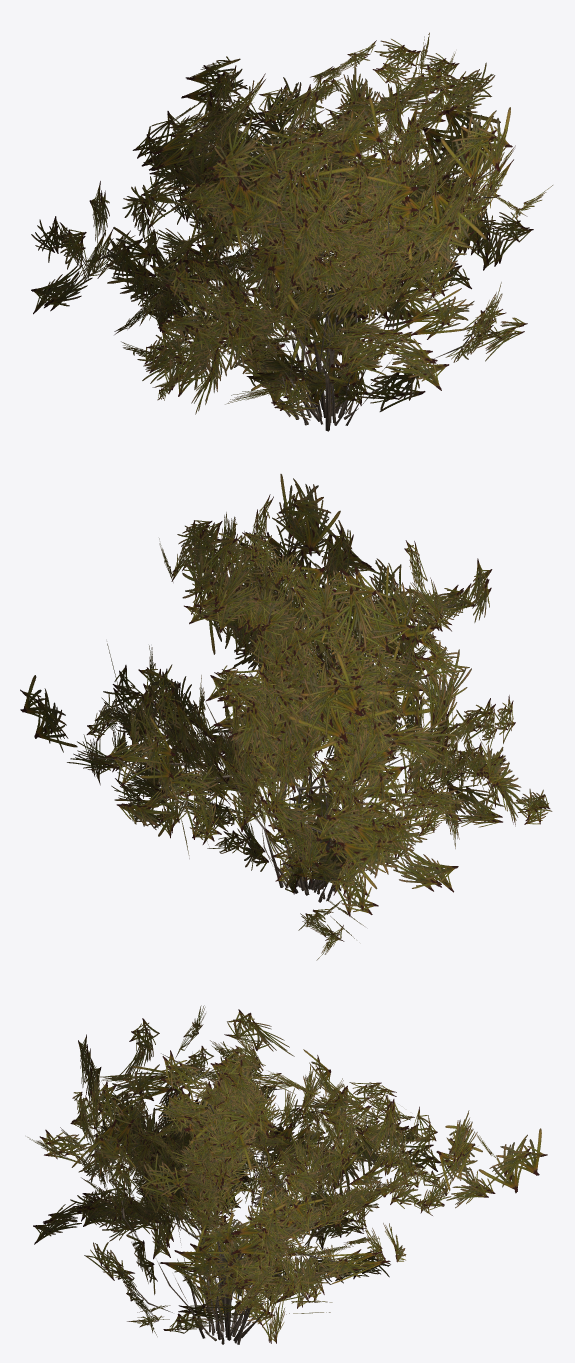
The model's file is wild_rooibos_bush.glb.
3 renders of one model, top to bottom at view 1: azimuth 30°, elevation 25°; view 2: azimuth 150°, elevation 25°; view 3: azimuth 270°, elevation 25°, orthographic. The views are drawn at different scales.
Visible parts, largest first — view 1: heath_large_LOD0, heath_small_LOD0; view 2: heath_large_LOD0, heath_small_LOD0; view 3: heath_large_LOD0, heath_small_LOD0.
Boxes of the visible parts, bbox=[...] form: heath_large_LOD0: bbox=[31, 32, 552, 431]; heath_small_LOD0: bbox=[121, 73, 527, 425]; heath_large_LOD0: bbox=[20, 474, 552, 916]; heath_small_LOD0: bbox=[116, 540, 469, 960]; heath_large_LOD0: bbox=[27, 1019, 547, 1344]; heath_small_LOD0: bbox=[84, 1005, 390, 1344].
Size of what is drawn, in the model's own units: 0.7188 by 0.546 by 0.8198.
2 materials, 2 textured.
